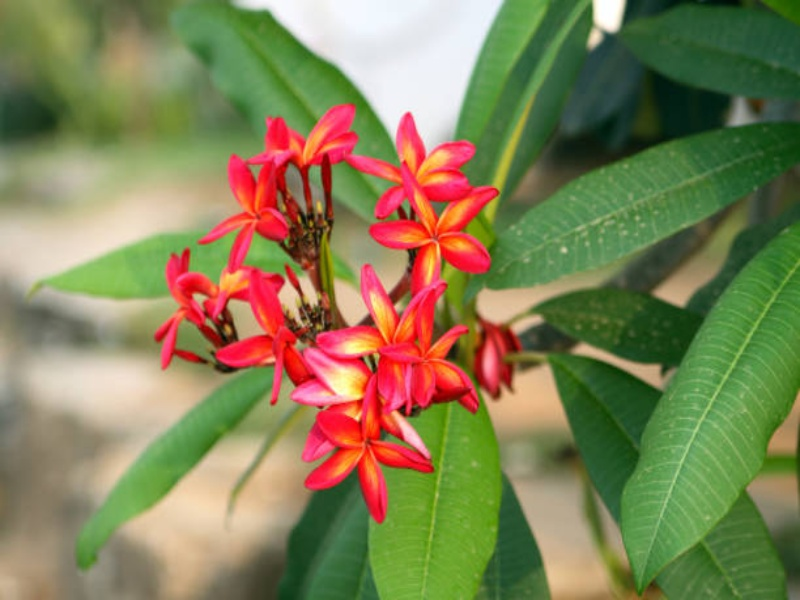Ixora: (152, 76, 556, 533)
